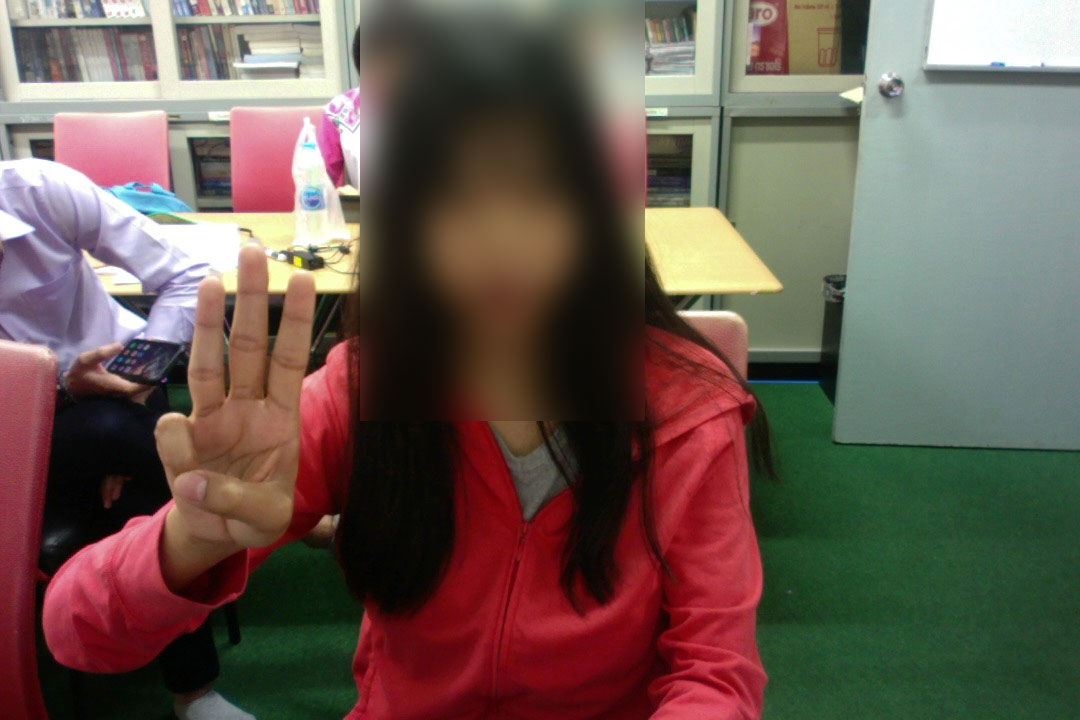wor: (154, 244, 324, 562)
